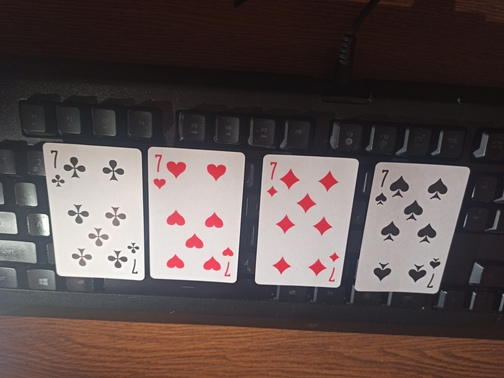sevenclubs: (41, 138, 150, 281)
sevendiamonds: (257, 148, 350, 293)
sevenhearts: (148, 141, 240, 282)
sevenspades: (358, 153, 462, 296)
